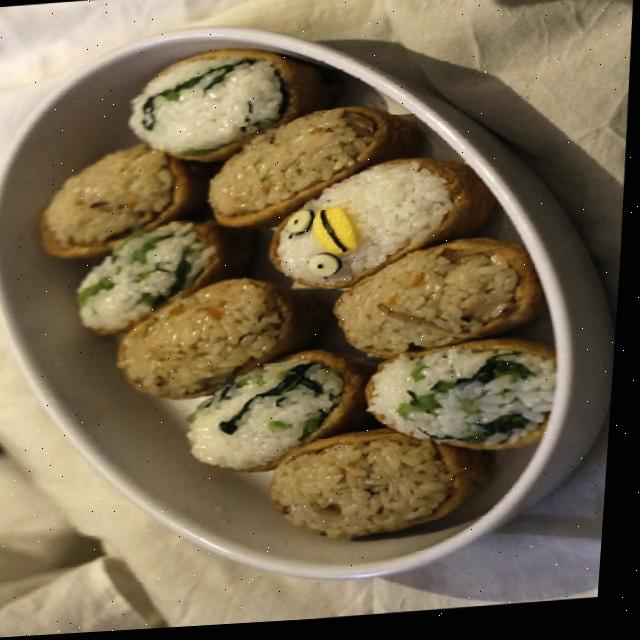寿司卷物: (0, 6, 612, 603)
